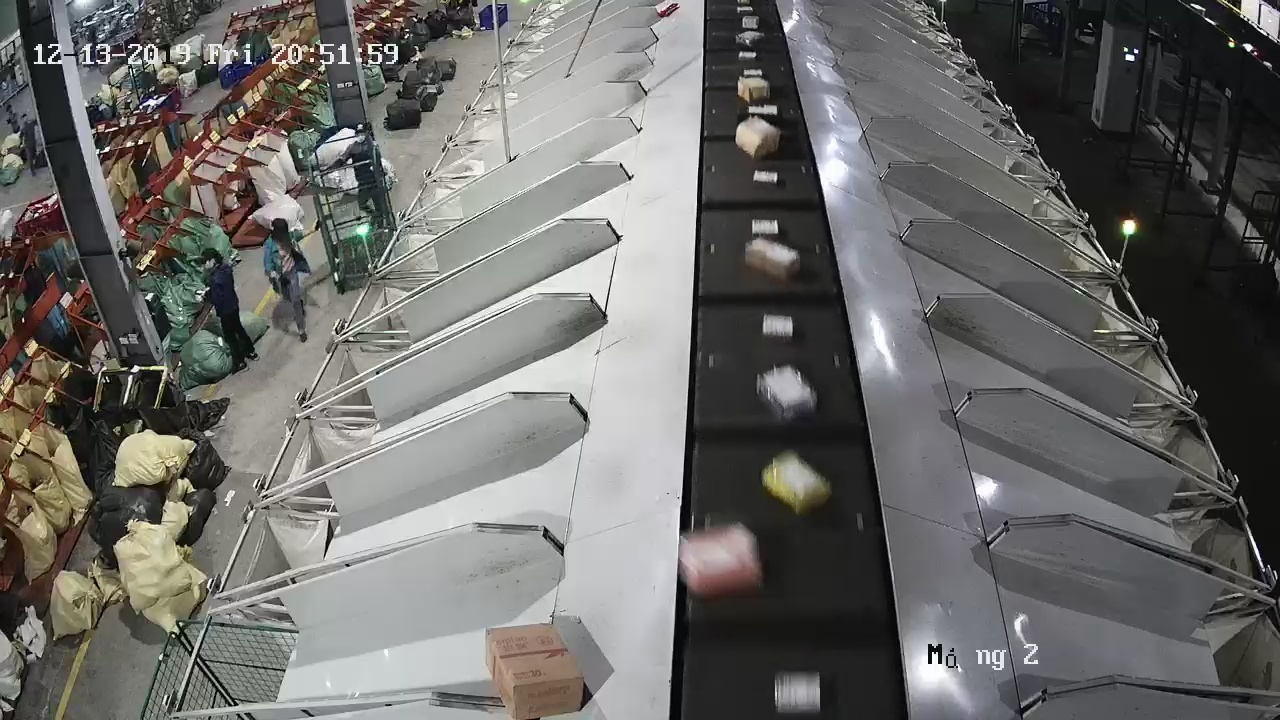parcel: (677, 520, 766, 601)
